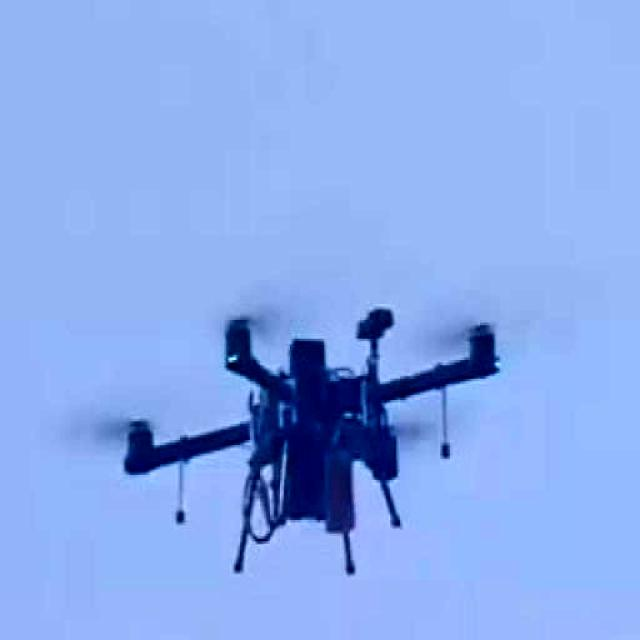bird: (92, 294, 511, 591)
